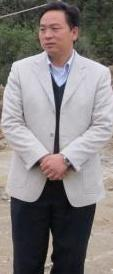hard-hat: (0, 182, 28, 220)
